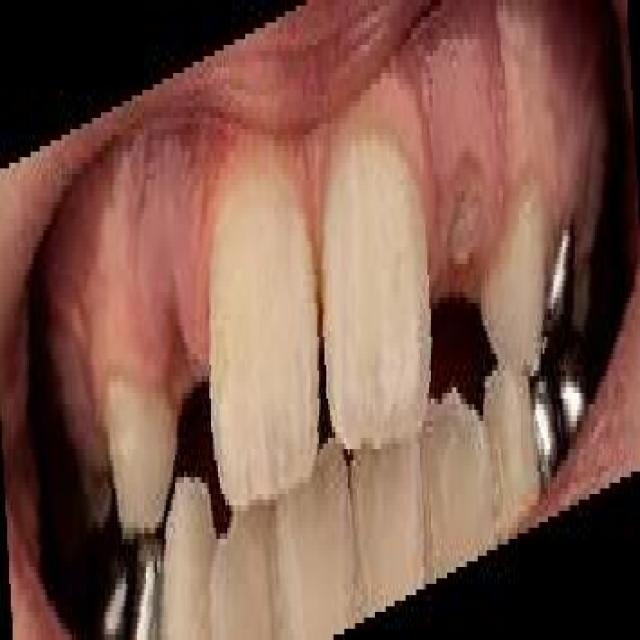caries: (444, 140, 486, 262)
